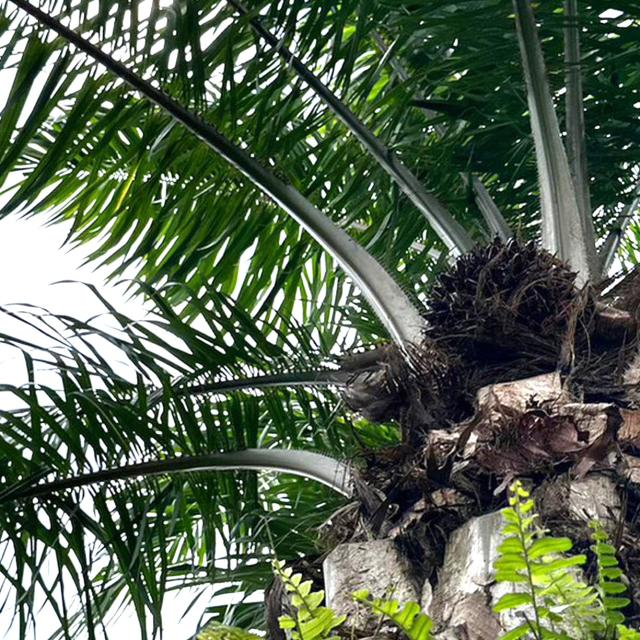ripe: (427, 234, 586, 359)
